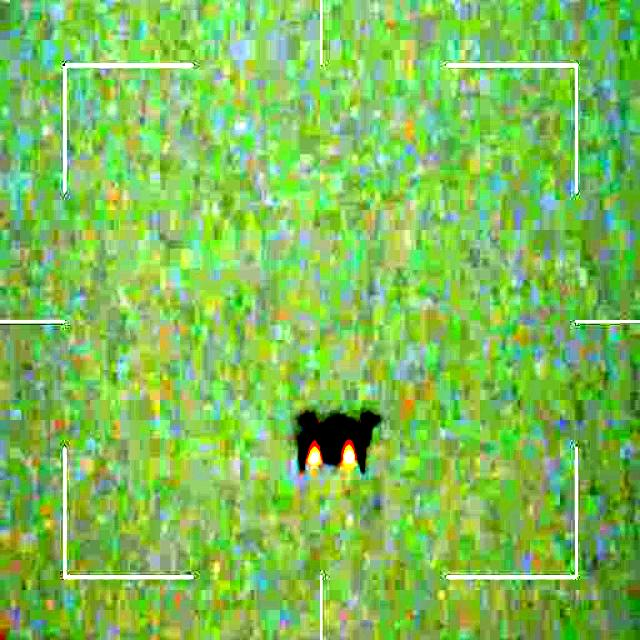bird: (296, 410, 382, 470)
